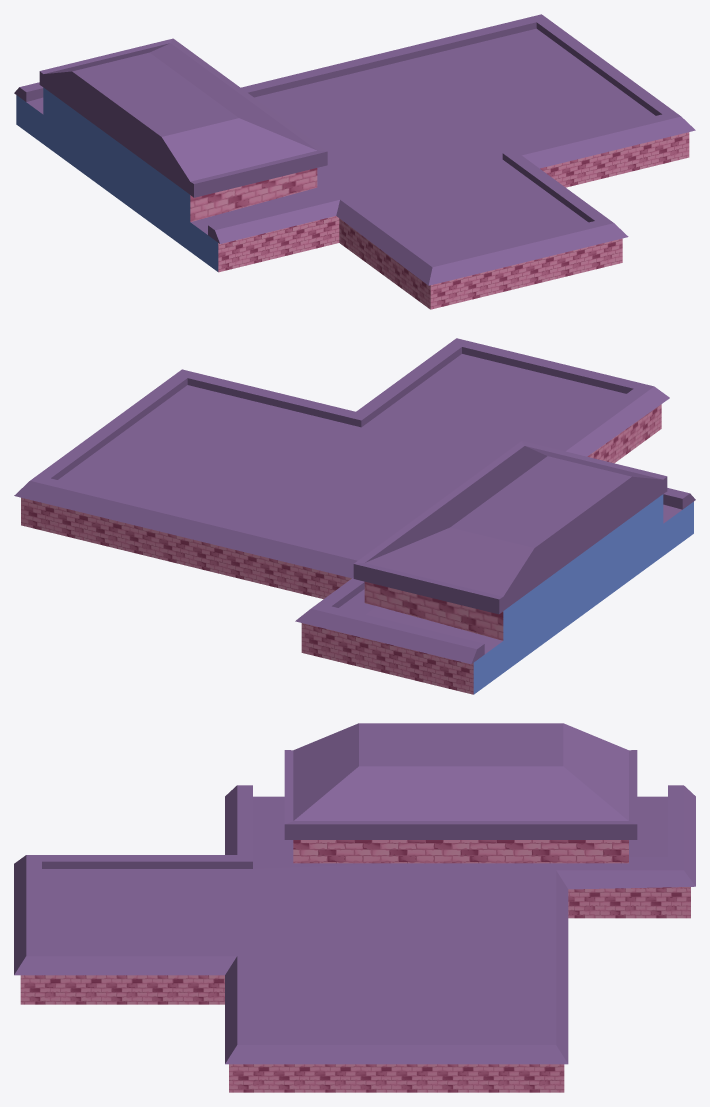
The model's file is Tienda1_Techo_P1.fbx.
The picture shows the model from 3 angles, top to bottom: view 1: azimuth 30°, elevation 25°; view 2: azimuth 150°, elevation 25°; view 3: azimuth 270°, elevation 25°; orthographic projection. The views are drawn at different scales.
Visible parts, largest first — view 1: Techo Player 1; view 2: Techo Player 1; view 3: Techo Player 1.
Boxes of the visible parts, <box> form: Techo Player 1: <box>14,14,695,309</box>; Techo Player 1: <box>14,338,695,694</box>; Techo Player 1: <box>14,723,695,1092</box>.
Bounding box in the file's own units: 1535 × 289 × 1669.
